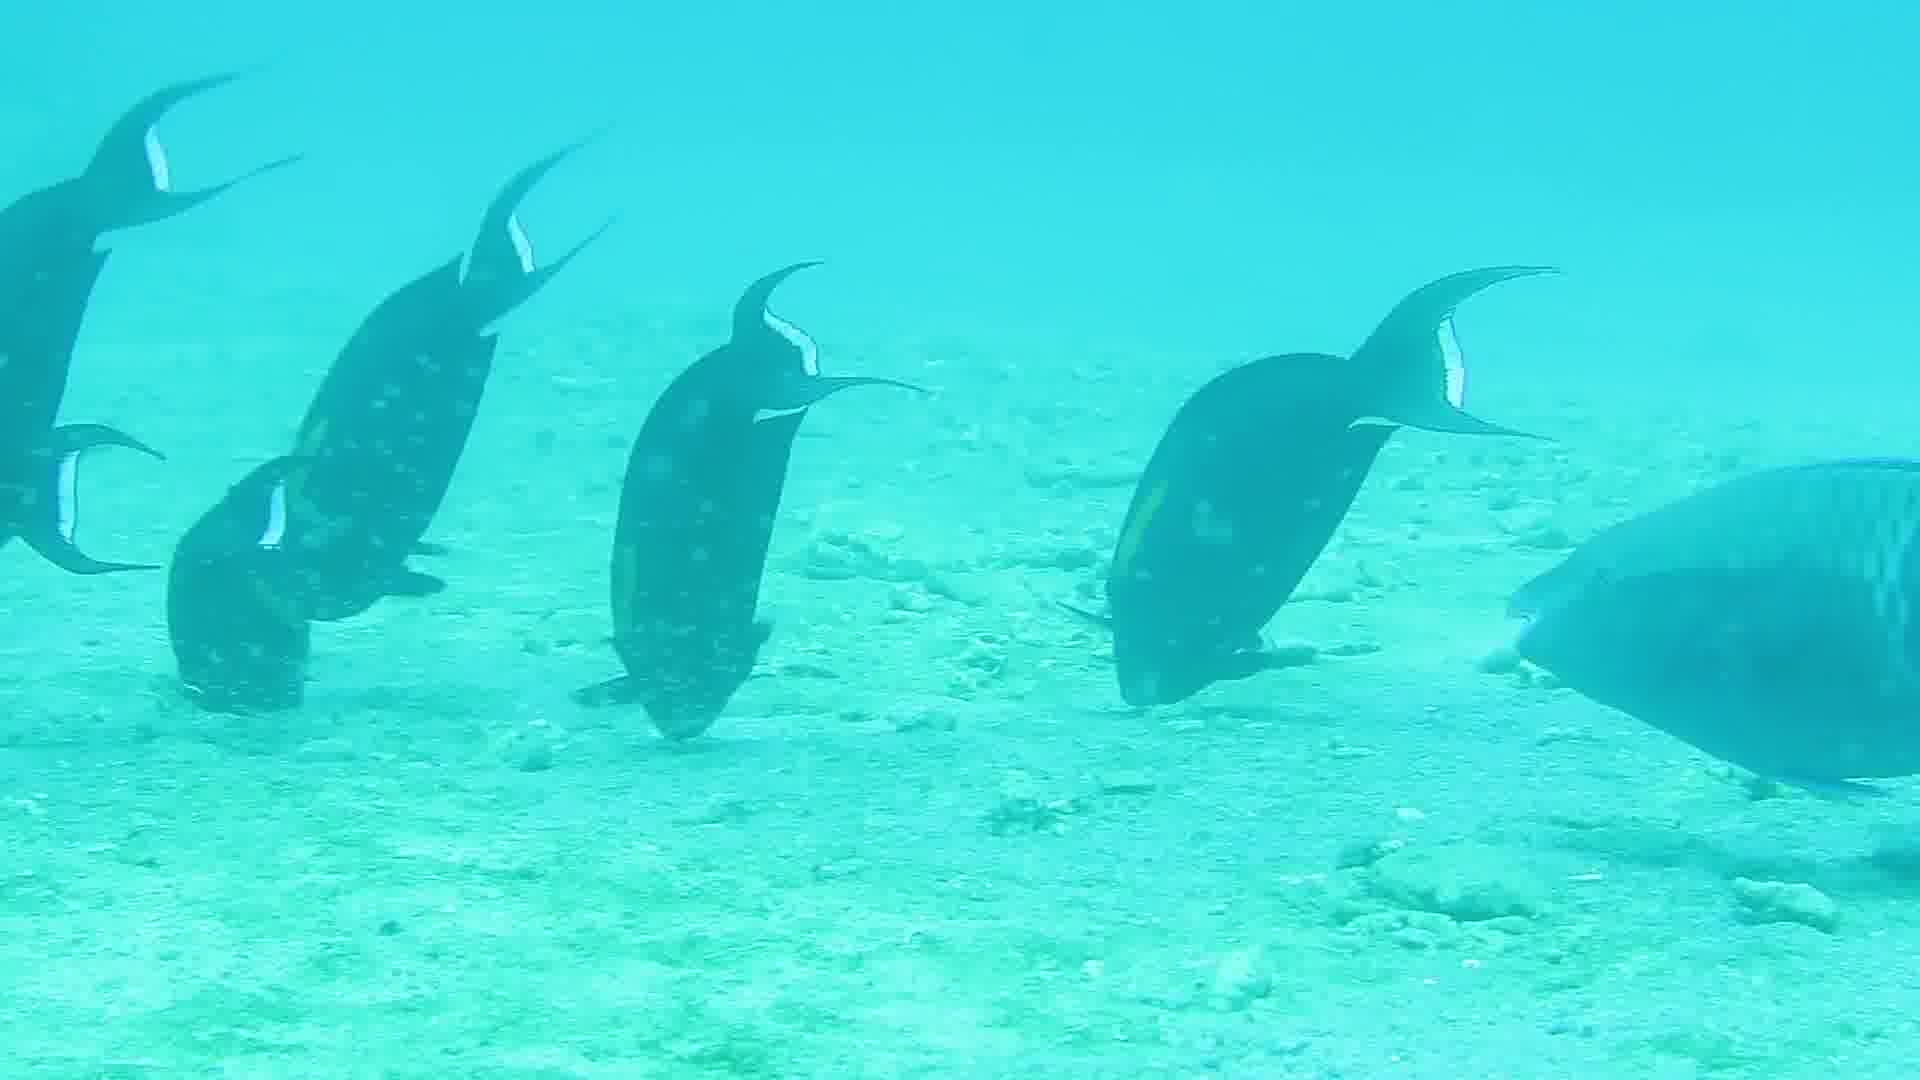Acanthurus olivaceus: (1085, 255, 1491, 750), (182, 198, 588, 694), (564, 281, 971, 775), (1513, 431, 1917, 926), (1, 111, 189, 572)
